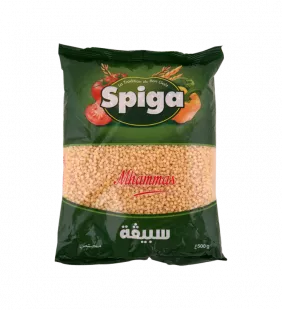SPIGA: (45, 37, 235, 275)
